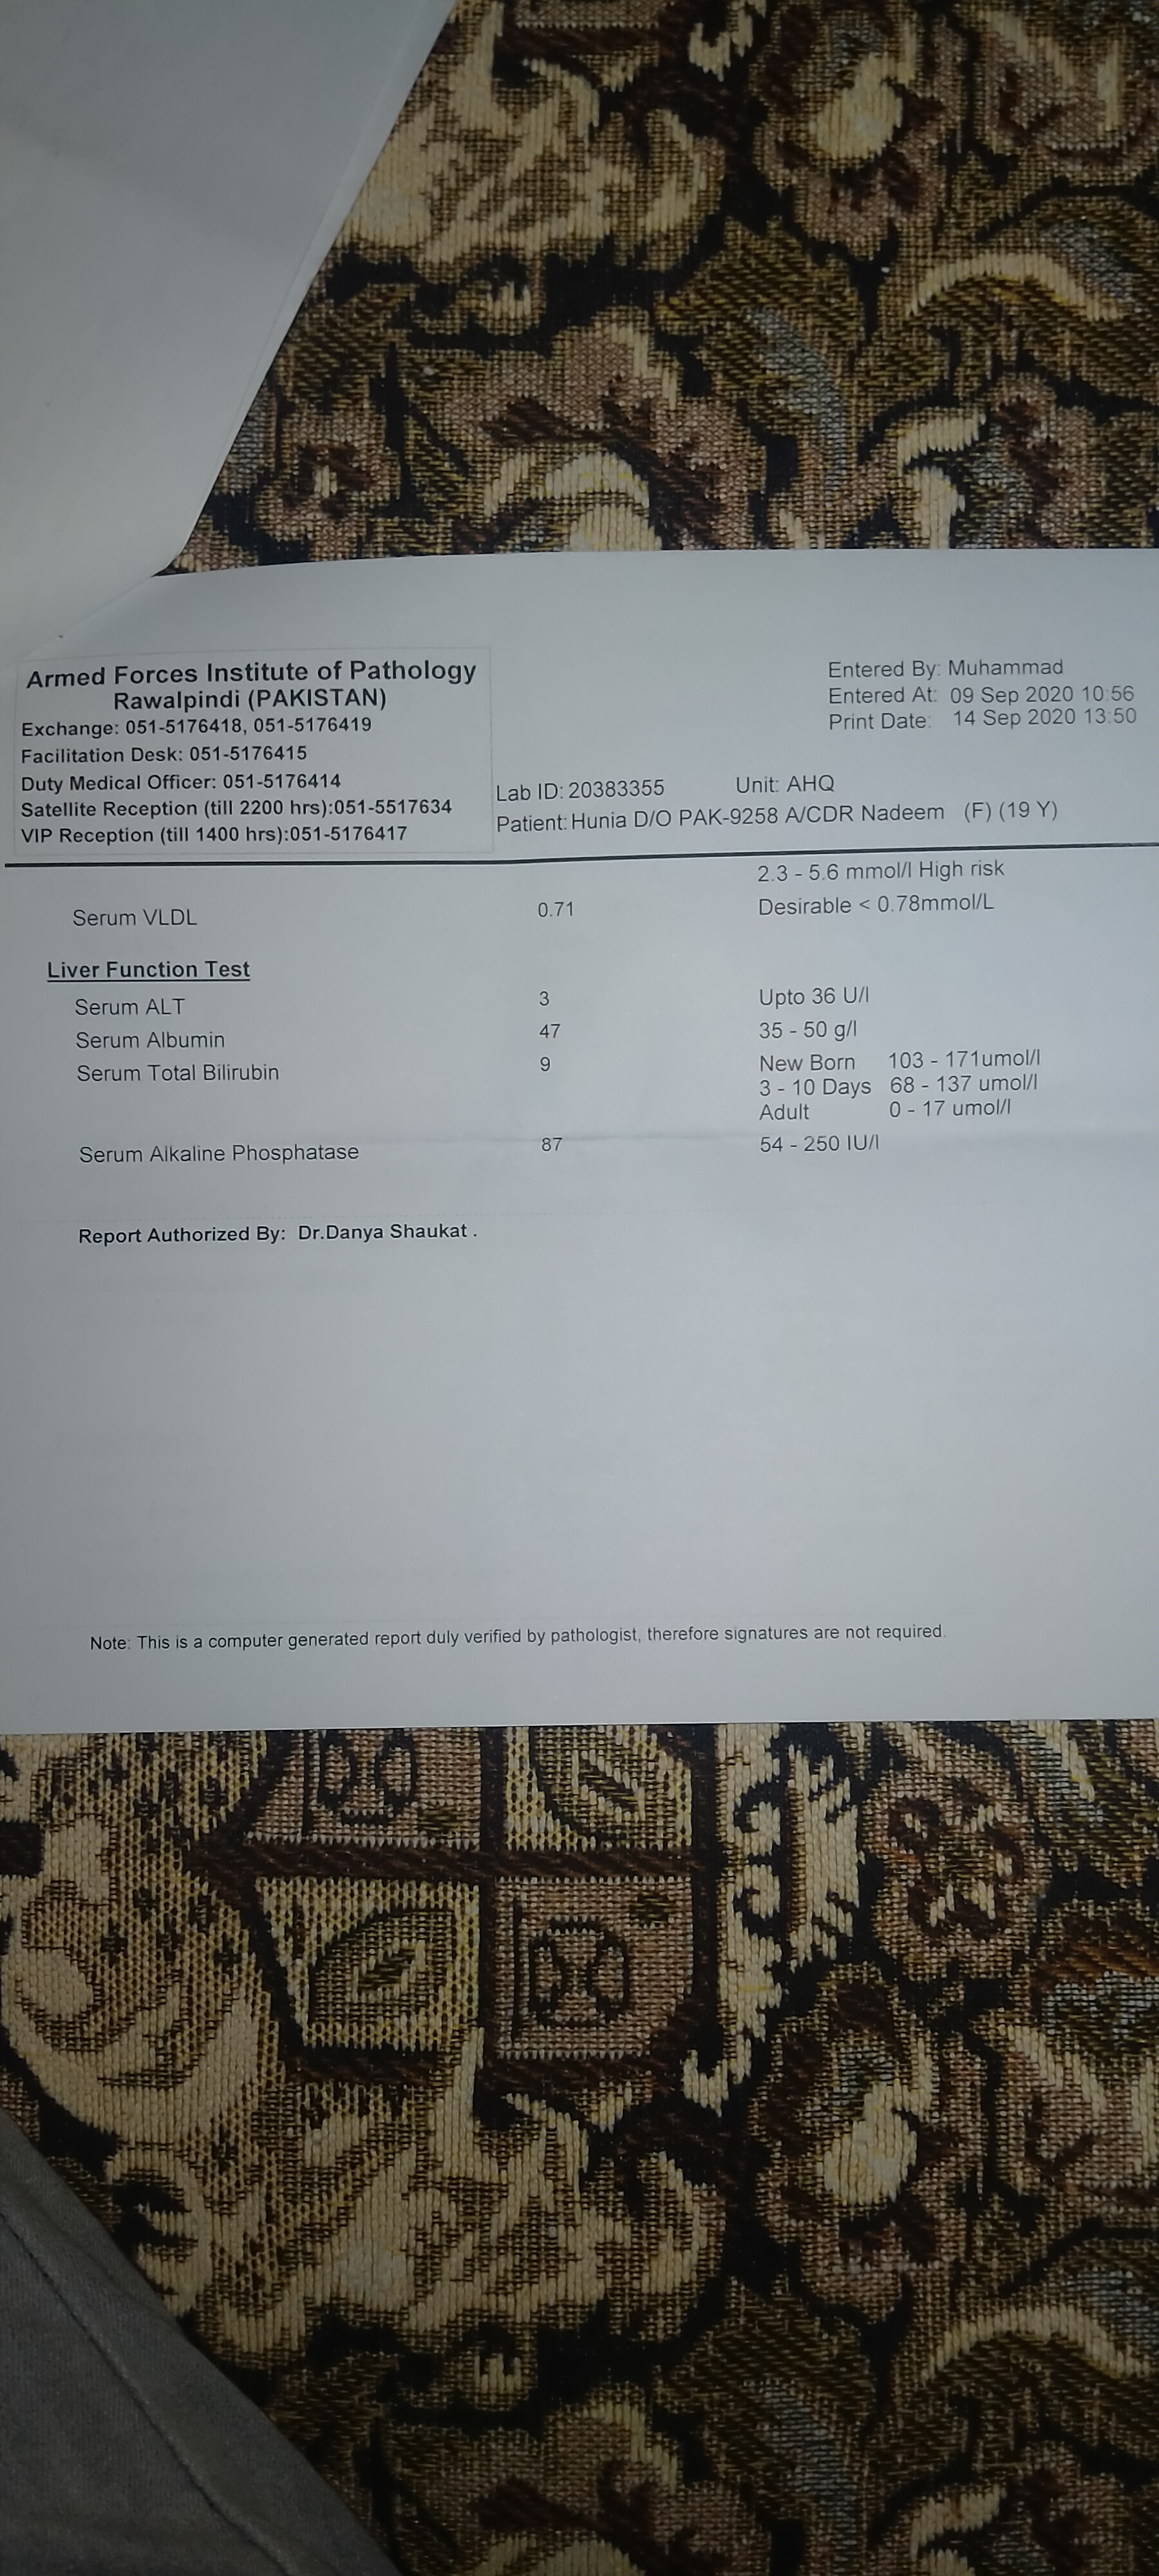report: (28, 849, 1159, 1281)
